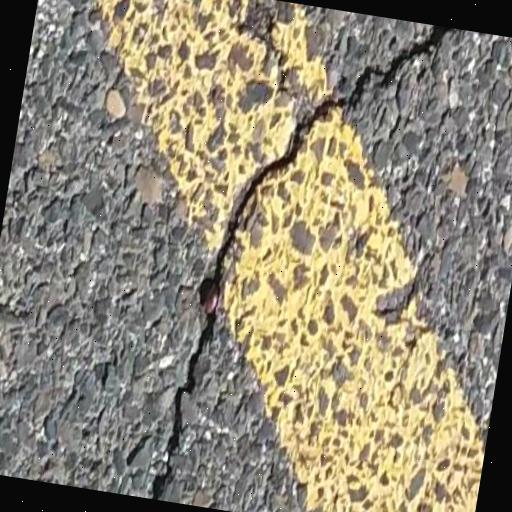spalling: (140, 23, 452, 501)
